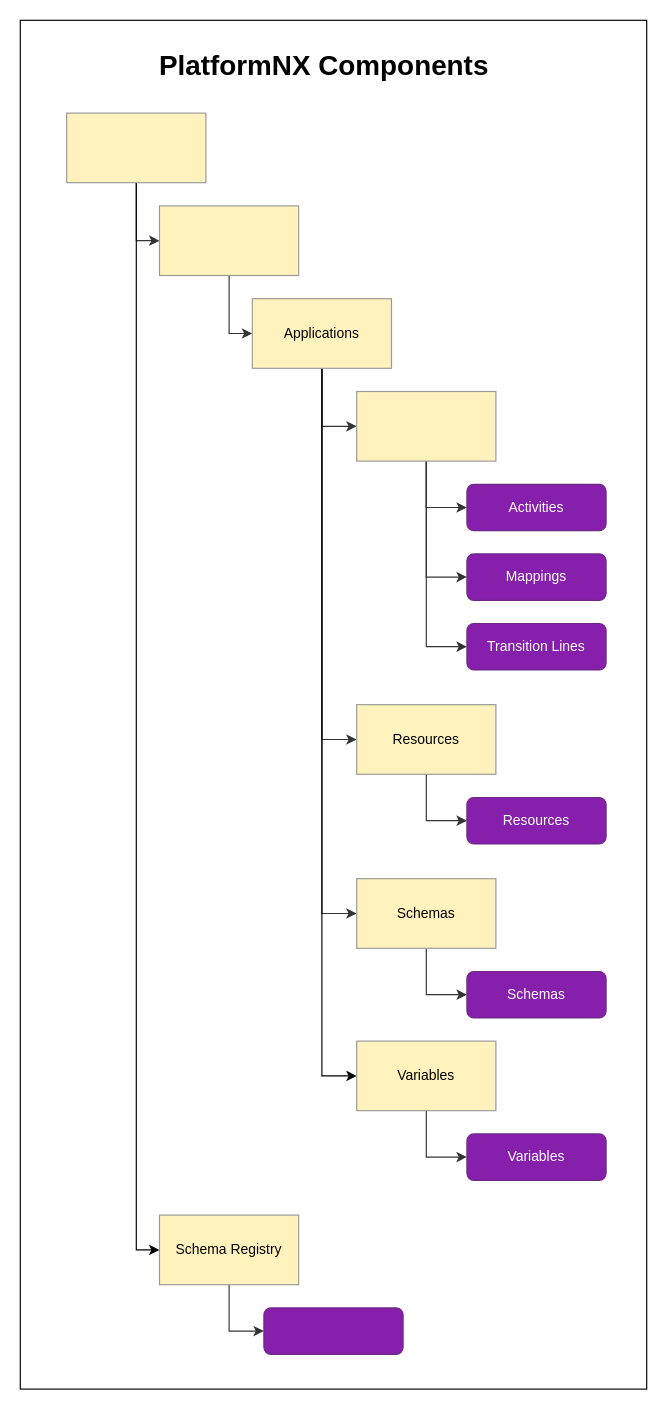
The diagram is 667 pixels wide and 1409 high, and some of its shapes have lost their labels. The shapes that lost their labels are listed below. From the top down, each one's centre as x and y in pixels, then its label:
the point at 136,147: Organization
the point at 228,240: Workspaces
the point at 426,425: Workflows
the point at 333,1330: Global-Level Schemas
